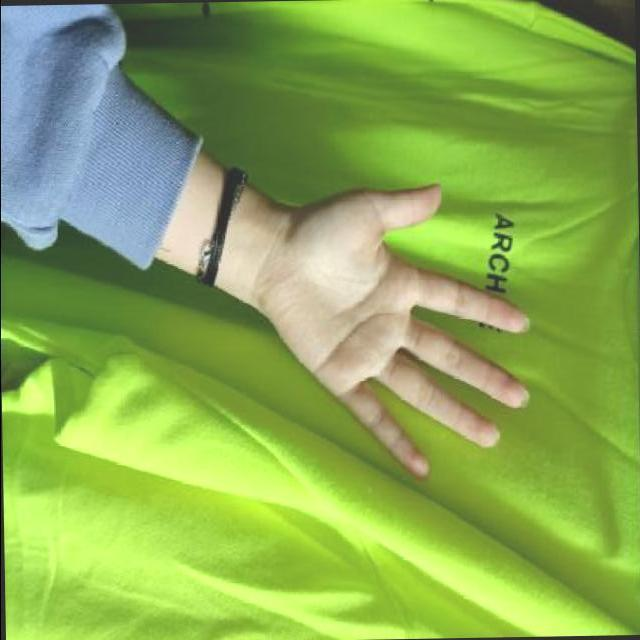hand: (240, 162, 552, 492)
